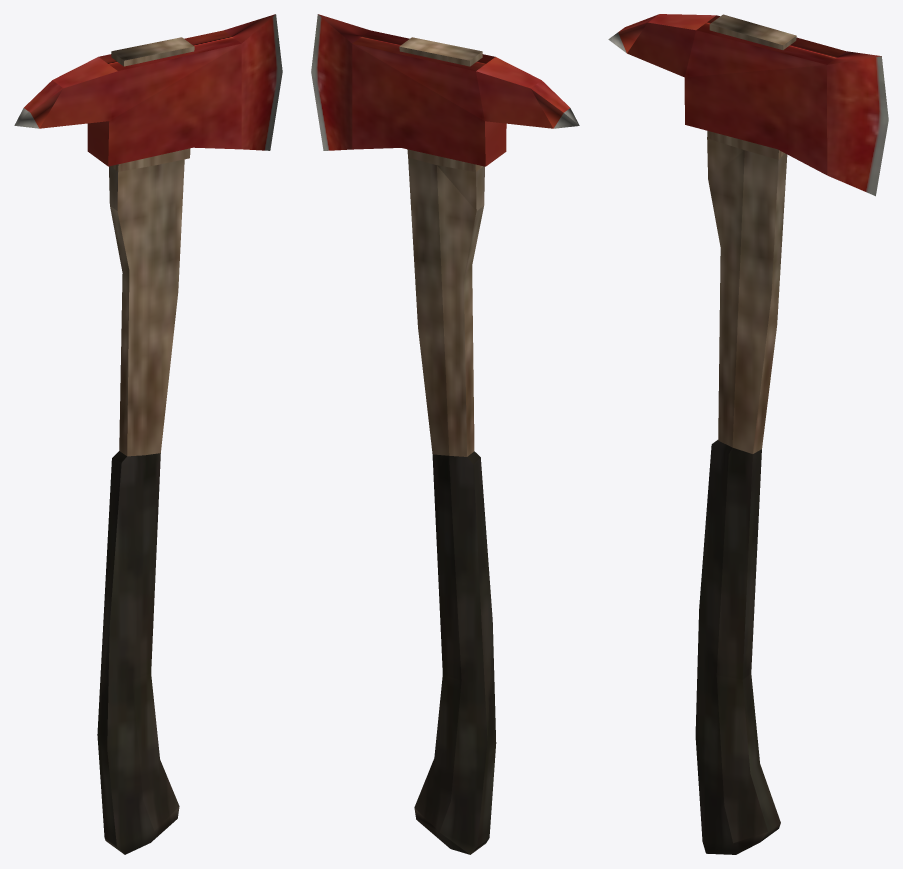
File: fire_axe_ps1.glb
3 views of the same model, side by side, from view 1: azimuth 30°, elevation 25°; view 2: azimuth 150°, elevation 25°; view 3: azimuth 330°, elevation 25° (orthographic). The views are drawn at different scales.
Parts seen in each view (by area): view 1: Fire-Axe; view 2: Fire-Axe; view 3: Fire-Axe.
Boxes of the visible parts, bbox=[...] form: Fire-Axe: bbox=[14, 14, 282, 854]; Fire-Axe: bbox=[311, 14, 579, 854]; Fire-Axe: bbox=[608, 14, 888, 854].
Bounding box in the file's own units: 0.2122 × 0.6012 × 0.0298.
Materials: 2 (2 with a texture image).
